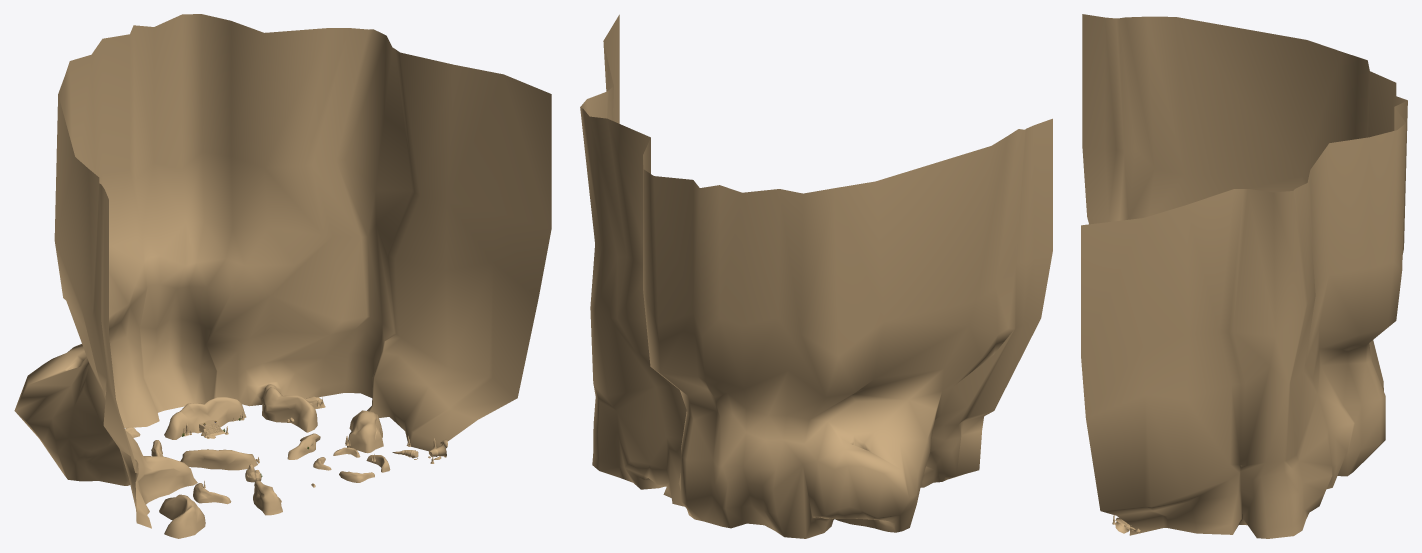
File: level01_allwallz.fbx
3 views of the same model, side by side, from view 1: azimuth 30°, elevation 25°; view 2: azimuth 150°, elevation 25°; view 3: azimuth 270°, elevation 25° (orthographic). The views are drawn at different scales.
Visible parts, largest first — view 1: Icosphere.015, Icosphere.009, Icosphere.014, Icosphere.008, Icosphere.006, Icosphere.001; view 2: Icosphere.015; view 3: Icosphere.015.
Boxes of the visible parts, x1,y1,x2,y2 form: Icosphere.015: (14, 14, 551, 528); Icosphere.009: (164, 397, 246, 439); Icosphere.014: (159, 494, 205, 538); Icosphere.008: (180, 449, 257, 470); Icosphere.006: (347, 410, 383, 453); Icosphere.001: (253, 480, 282, 515); Icosphere.015: (580, 14, 1052, 538); Icosphere.015: (1081, 14, 1407, 538).
Size of the model in its own units: 999 by 796 by 659.
Materials: 6 (2 with a texture image).
